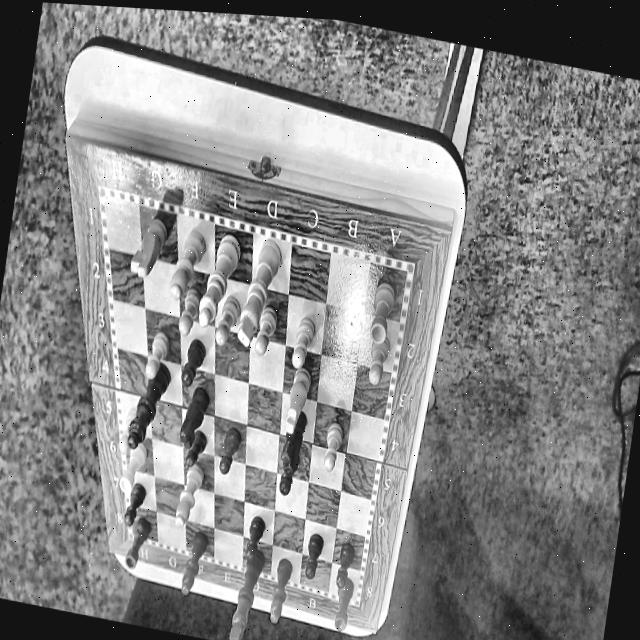chessboard: (104, 195, 406, 602)
